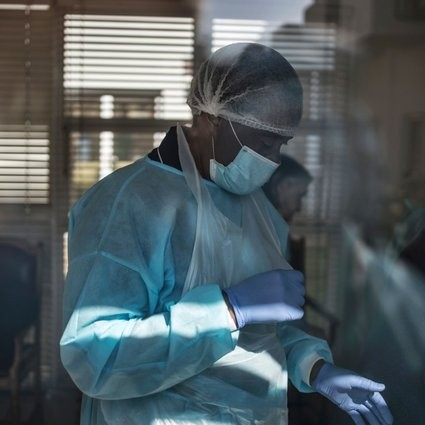Coverall: (58, 148, 333, 425)
Gloves: (310, 360, 396, 425), (223, 268, 307, 329)
with_mask: (206, 125, 290, 198)
